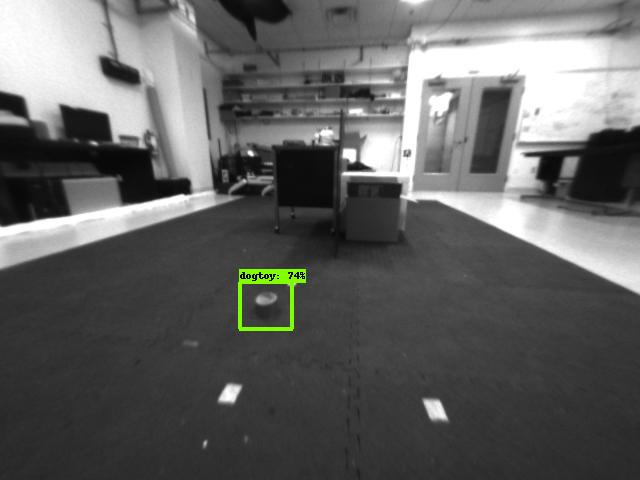dogtoy: (240, 285, 298, 327)
